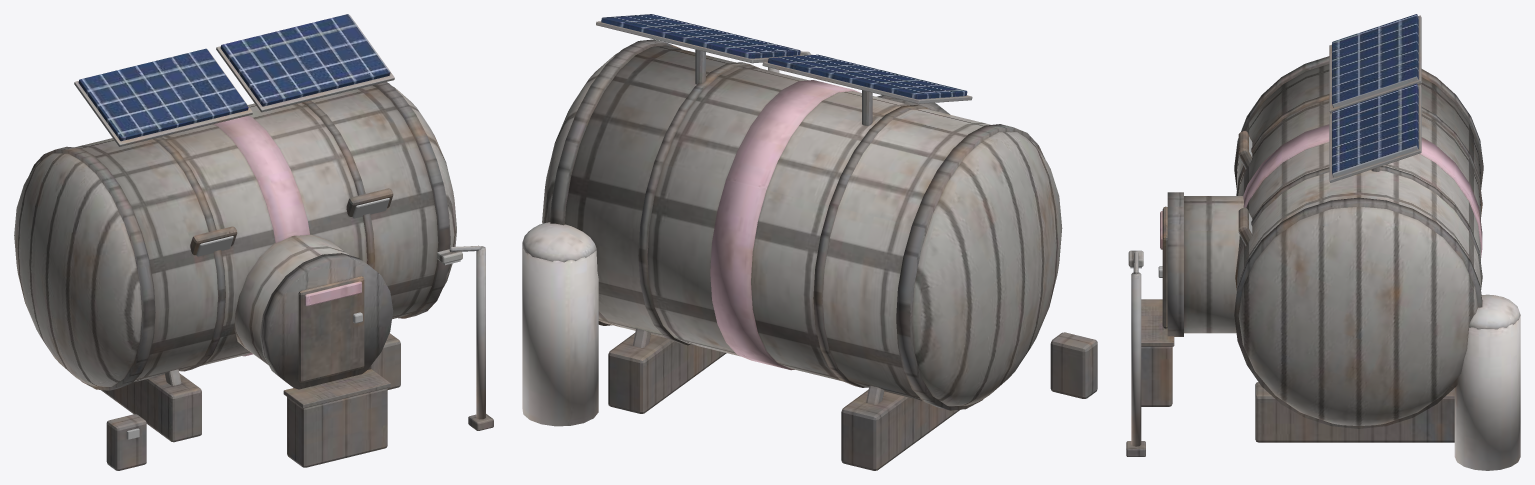
Rendered from house_0.glb.
3 views of the same model, side by side, from view 1: azimuth 30°, elevation 25°; view 2: azimuth 150°, elevation 25°; view 3: azimuth 270°, elevation 25° (orthographic). The views are drawn at different scales.
Parts seen in each view (by area): view 1: house_0, Glow; view 2: house_0; view 3: house_0.
Boxes of the visible parts, x1,y1,x2,y2 form: house_0: (14,14,493,470); Glow: (126,198,460,439); house_0: (522,14,1097,470); house_0: (1126,14,1520,470).
Bounding box in the file's own units: 2.66 × 2.09 × 2.39.
Materials: 3 (1 with a texture image).
